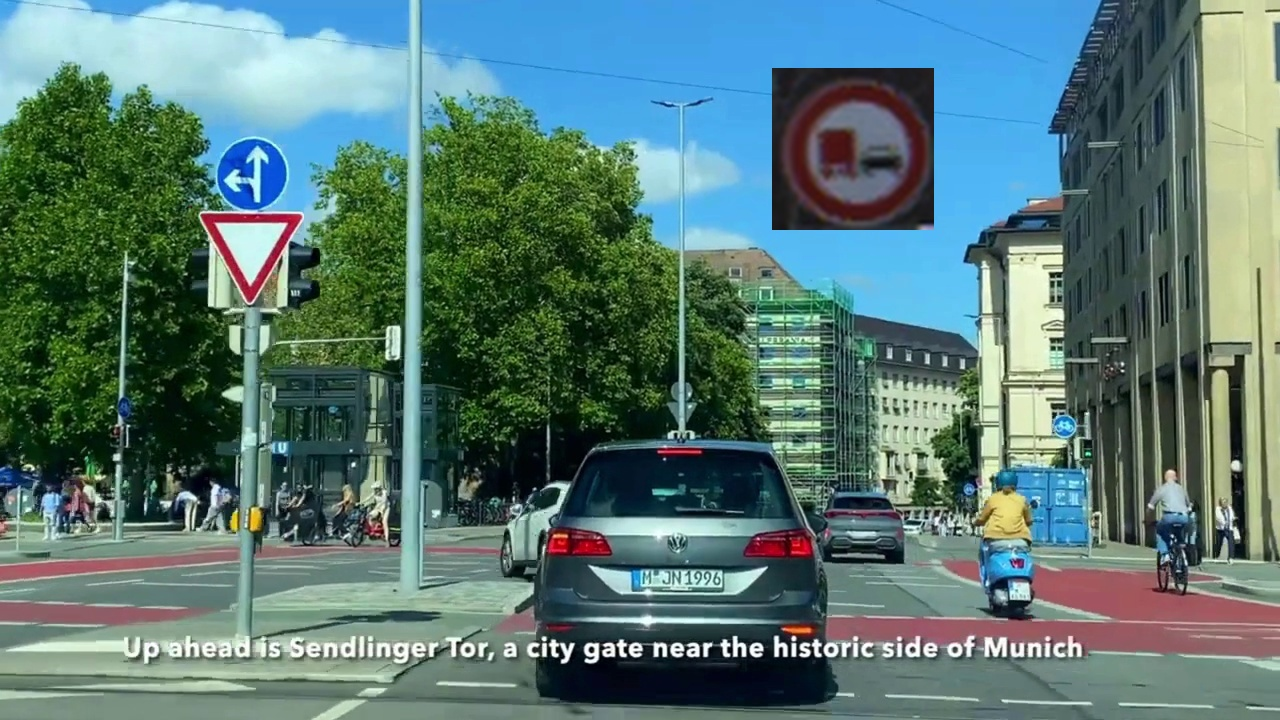No pass >3.5t: (772, 68, 934, 230)
